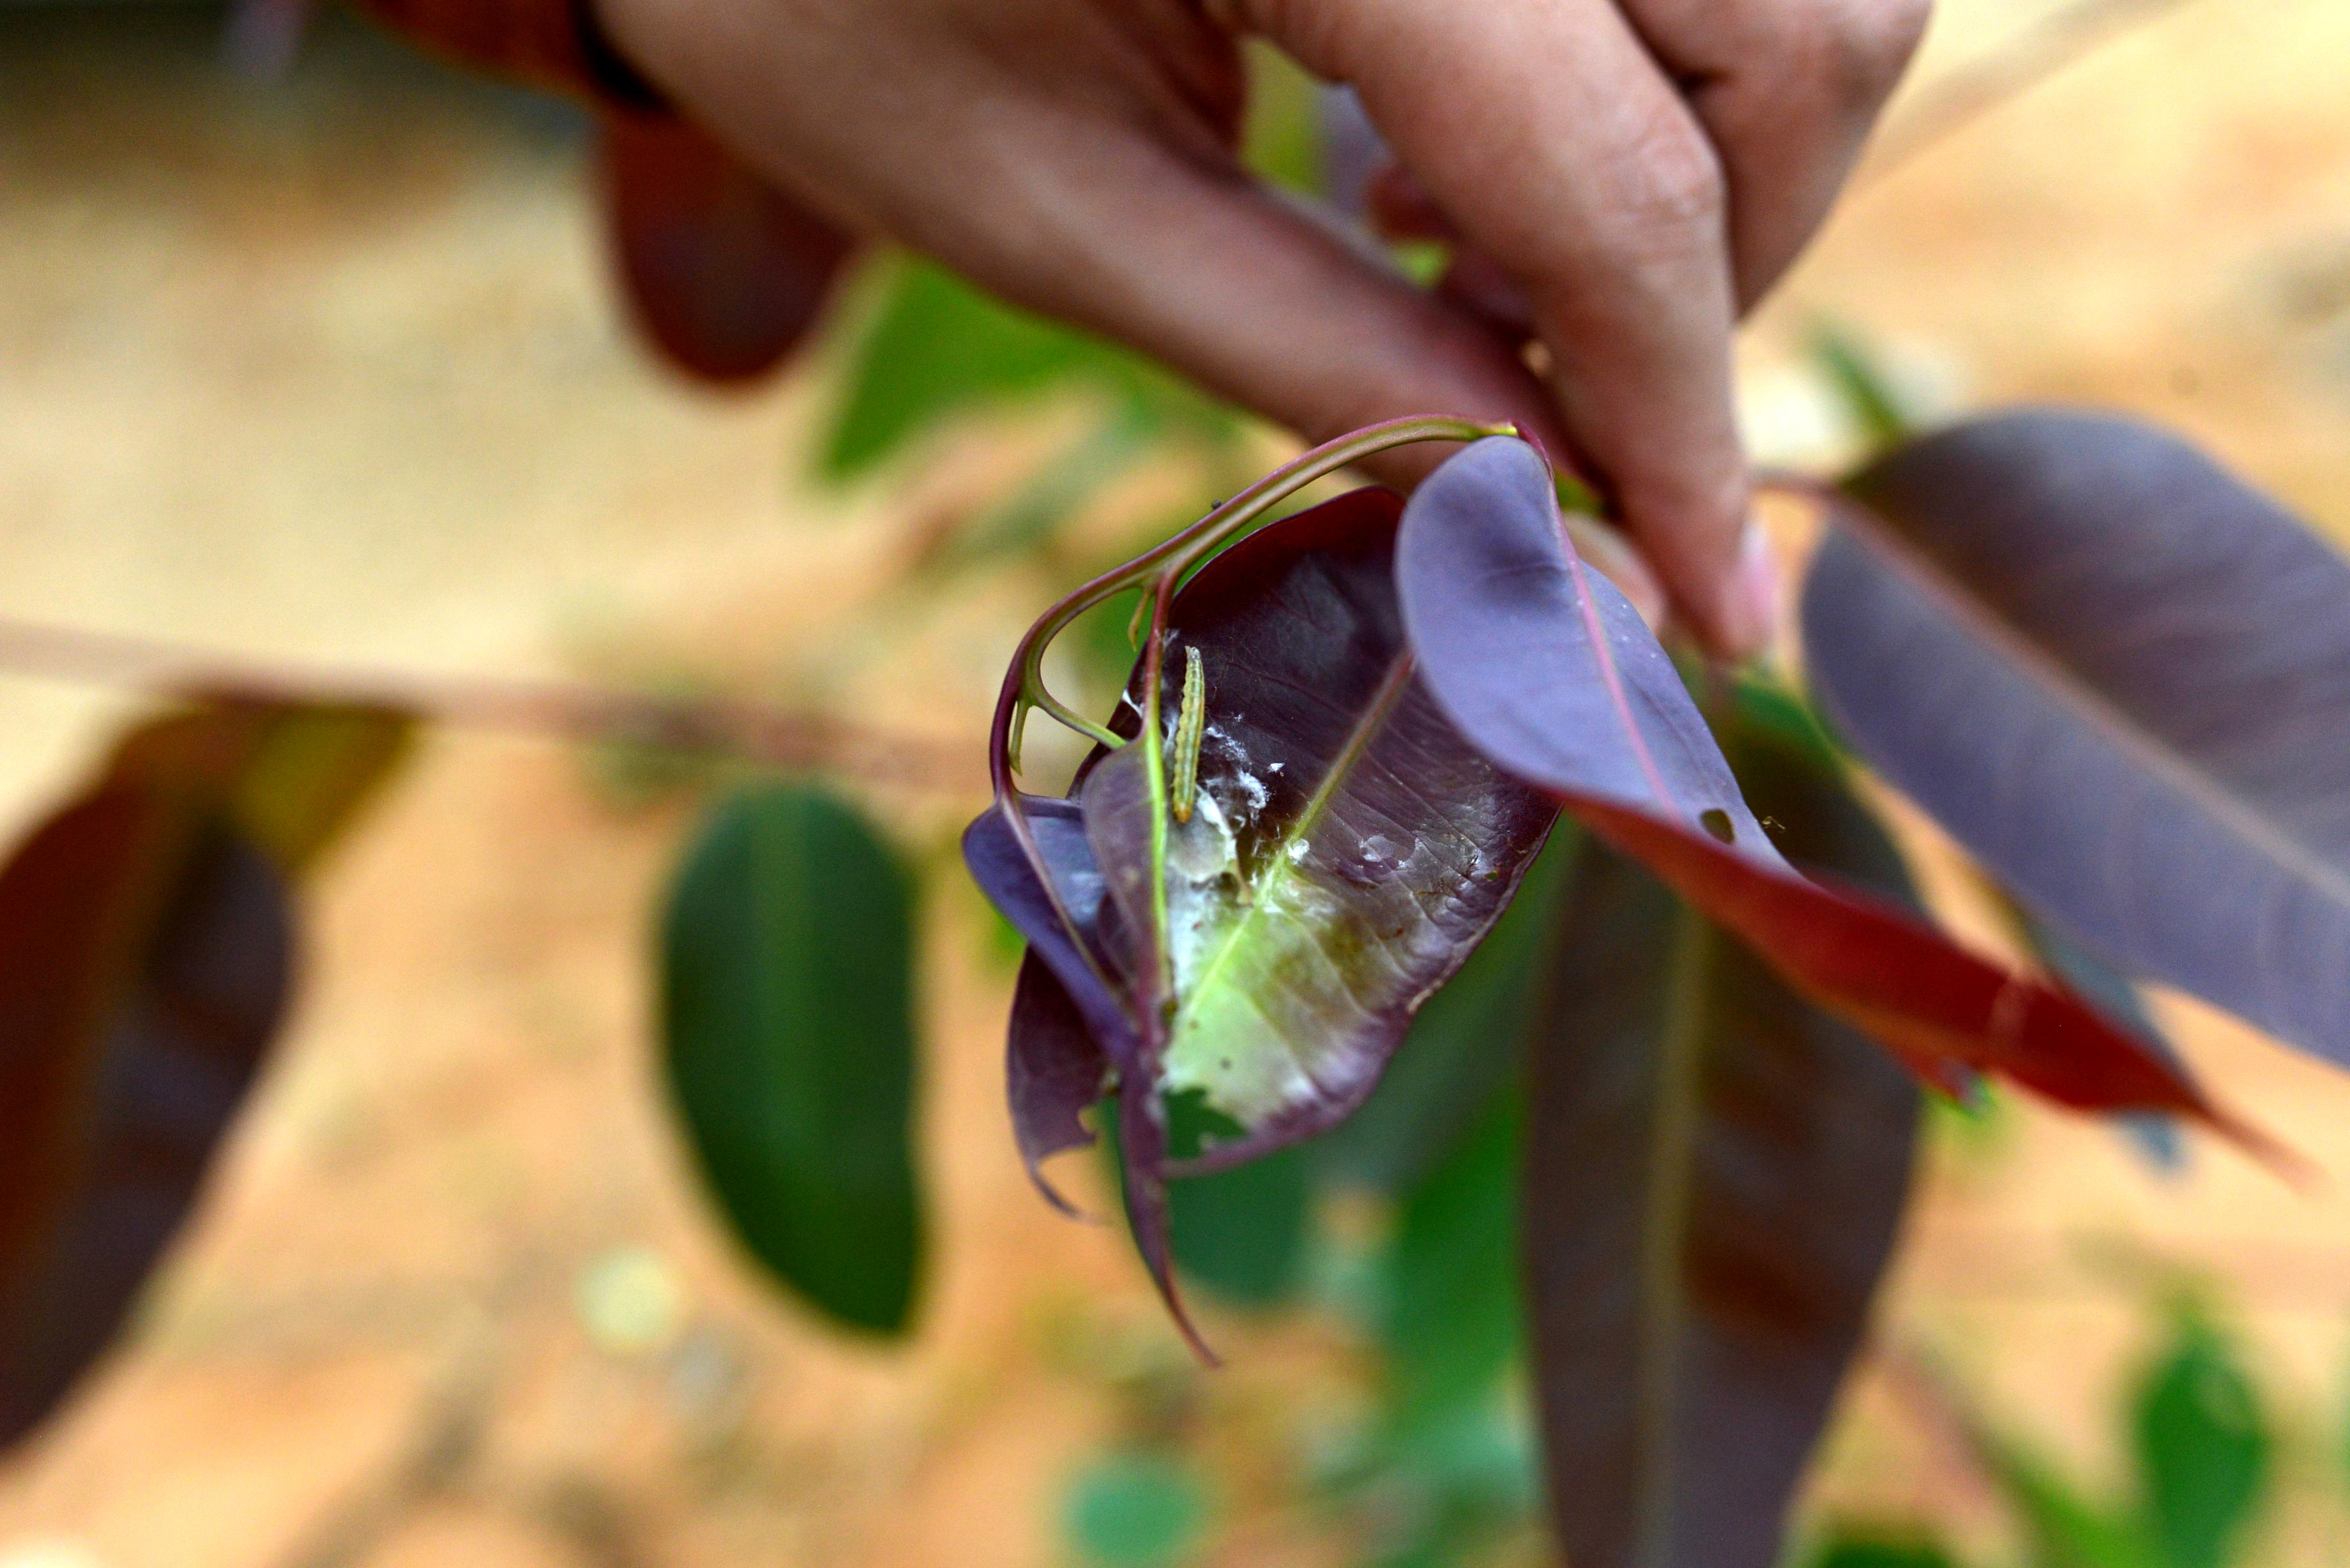Leaf Roller - Insect: (1172, 644, 1206, 824)
Leaf Roller - Leaf: (1019, 489, 1552, 1217), (958, 733, 1230, 1357)
